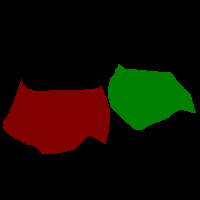mutande: (2, 78, 110, 154), (108, 63, 196, 130)
